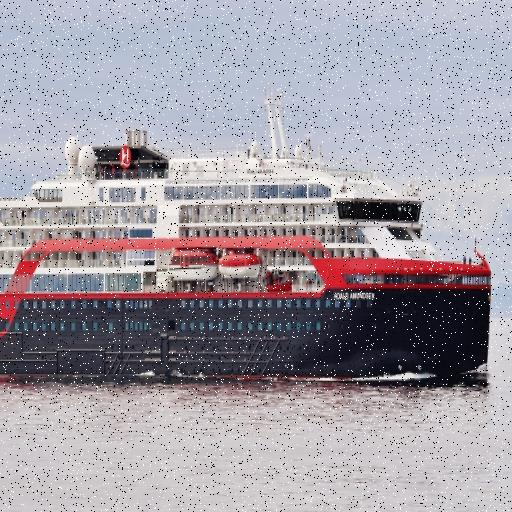cruises: (1, 96, 497, 392)
